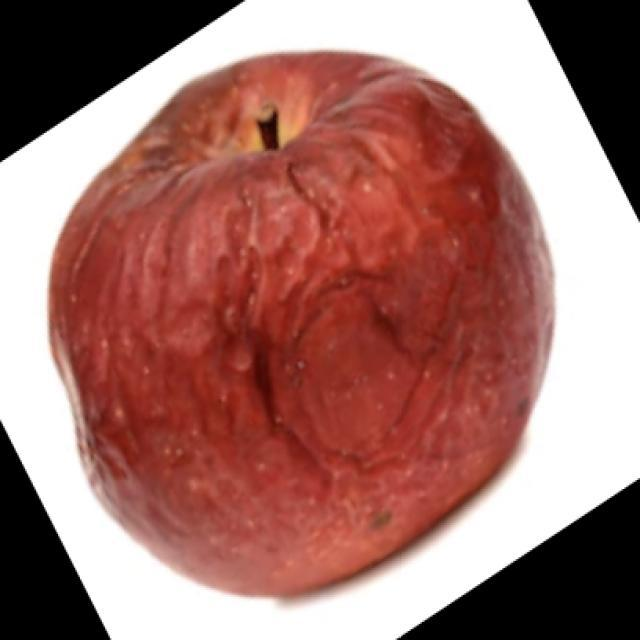Rotten: (37, 42, 543, 593)
